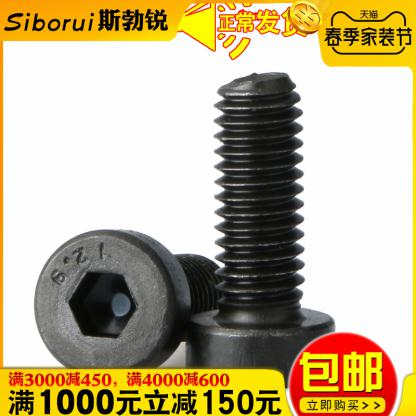FOD: (181, 69, 338, 385), (32, 228, 222, 372)
